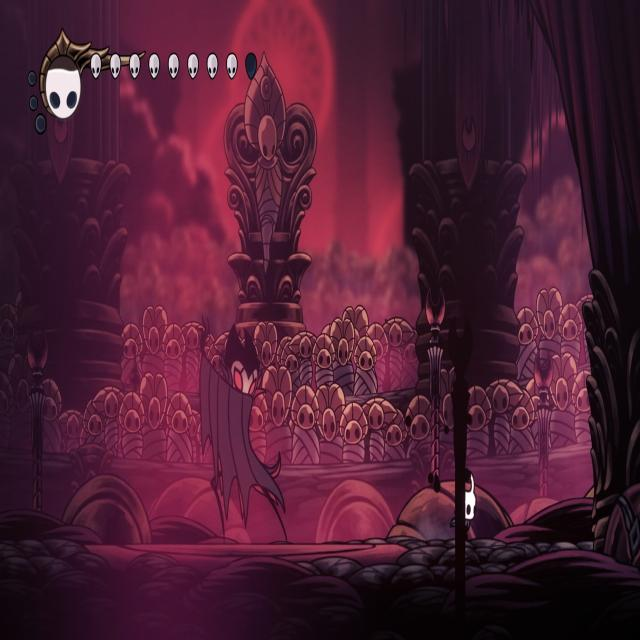Dash Uppercut: (195, 306, 292, 545)
Player: (449, 467, 479, 538)
